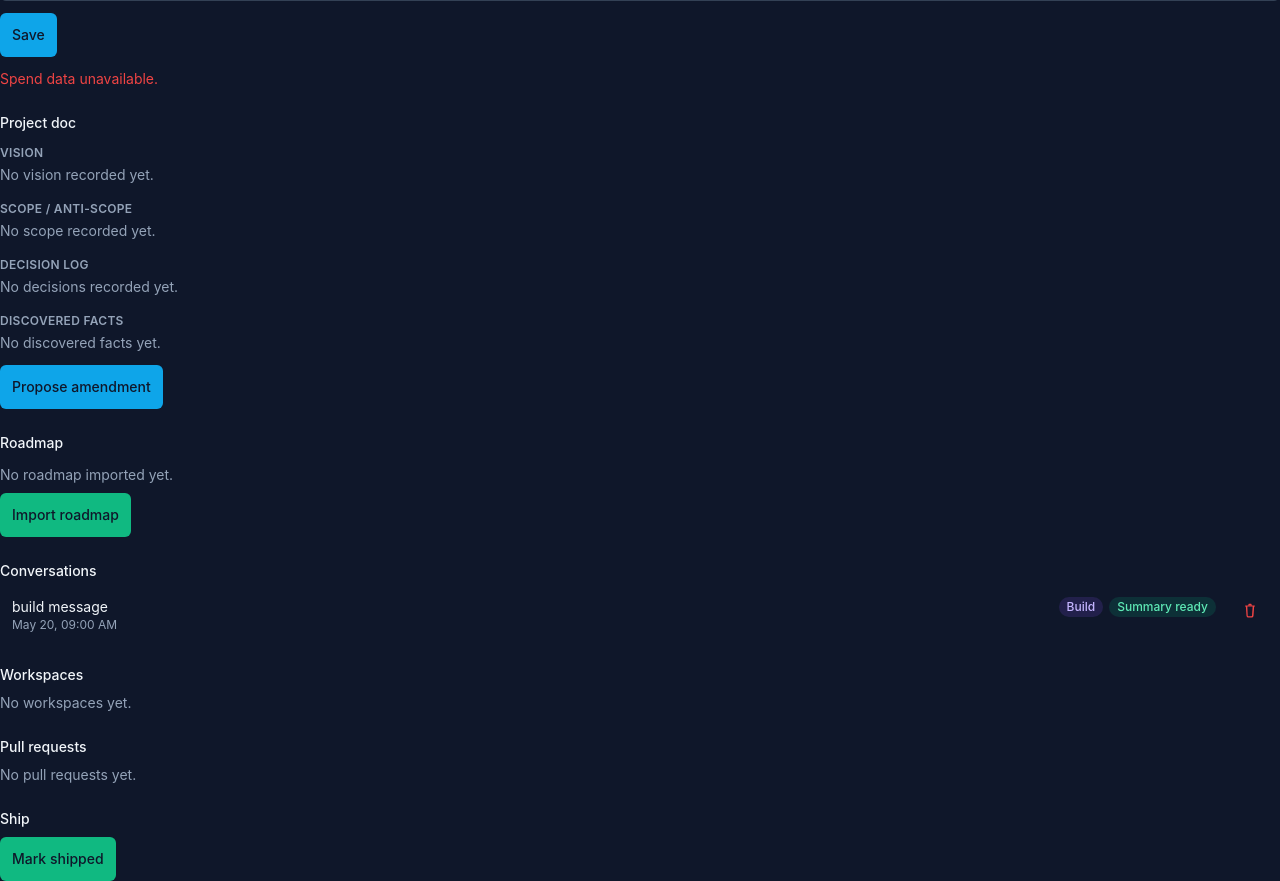
Test: Project › conversations section › removes a row from the list once it is deleted
(page scrolled)
Click the button named "Delete Build chat".
click(1250, 611)  # box [1228,589,1272,633]
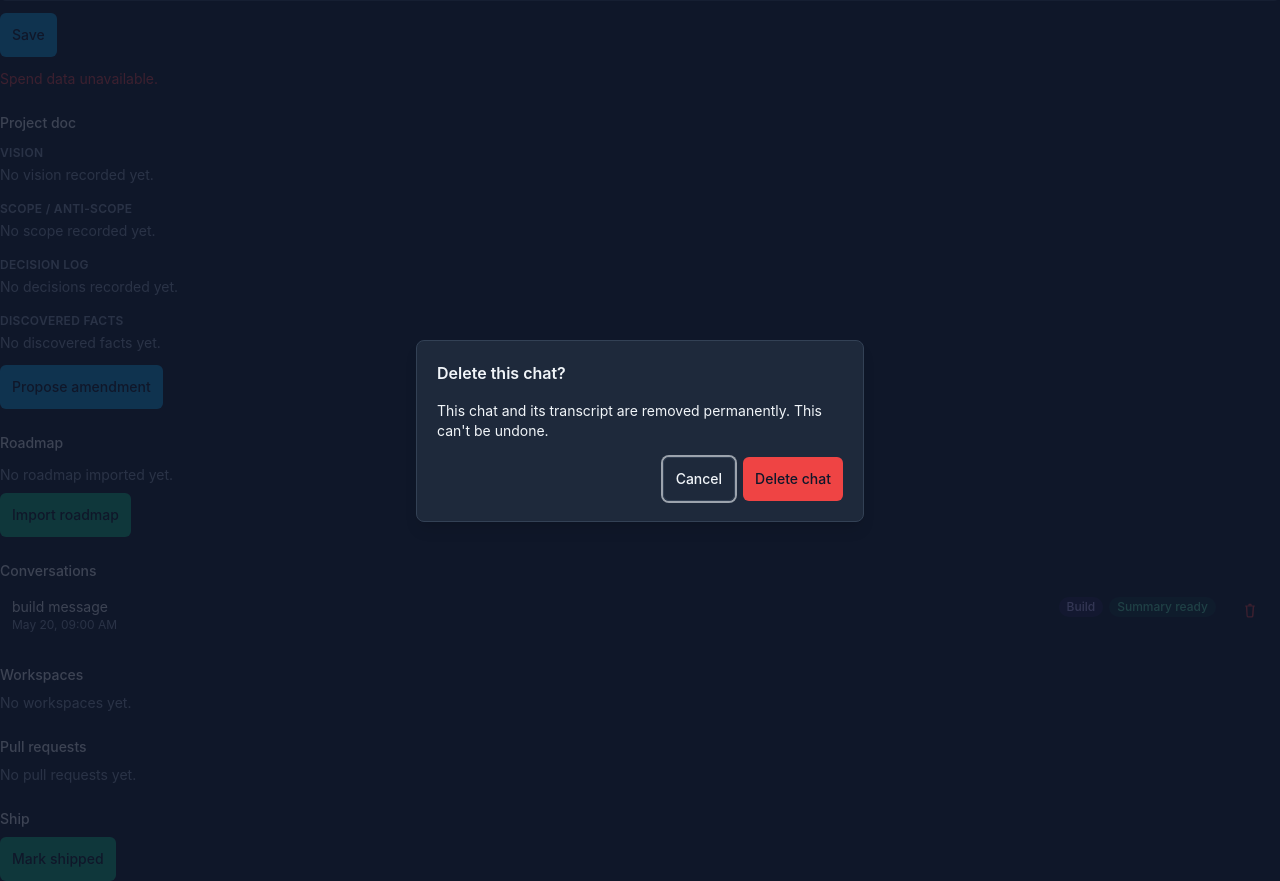
Click the button "Delete chat".
click(793, 479)  # box [743,457,843,501]
(page scrolled)
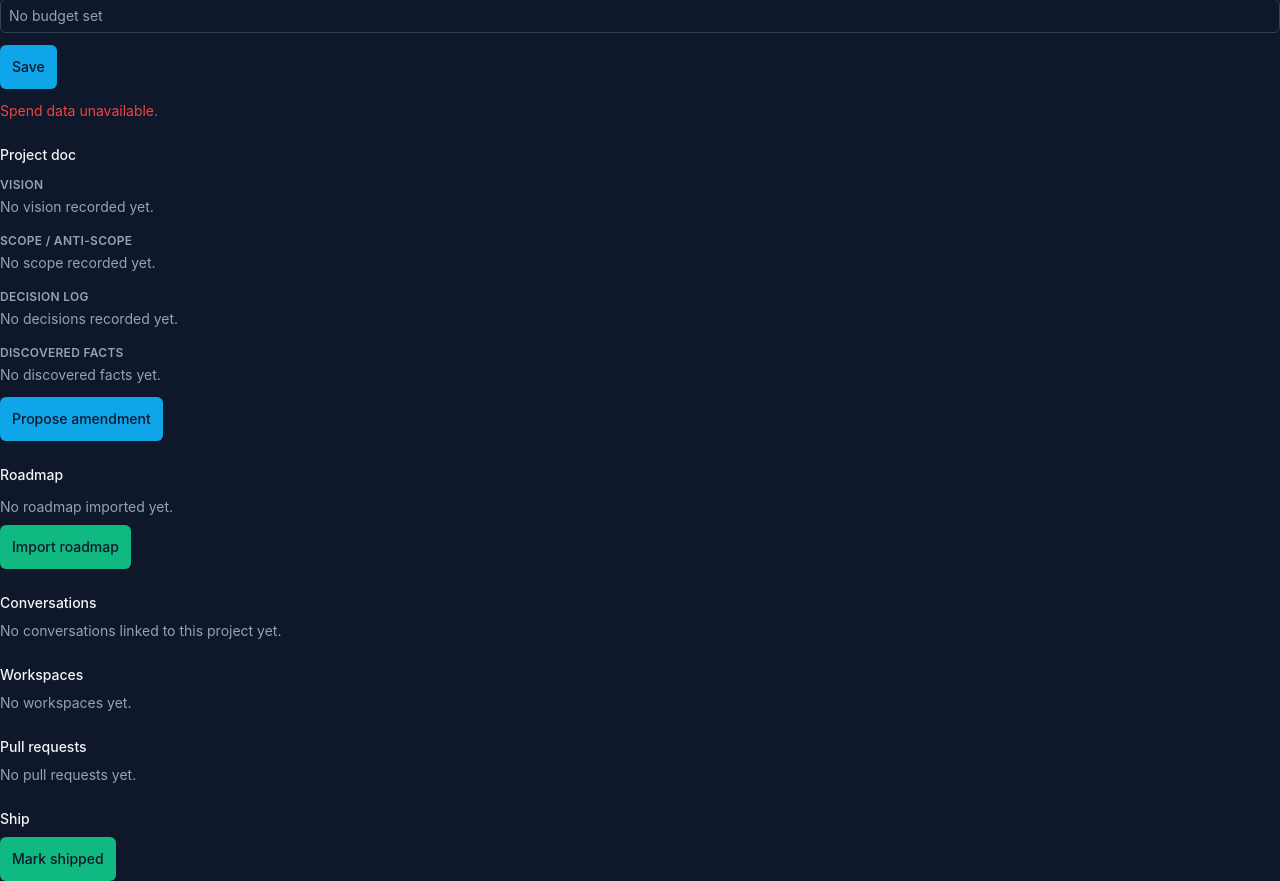
Now the text "No conversations linked to this project yet." is shown, box [0,622,282,639]
